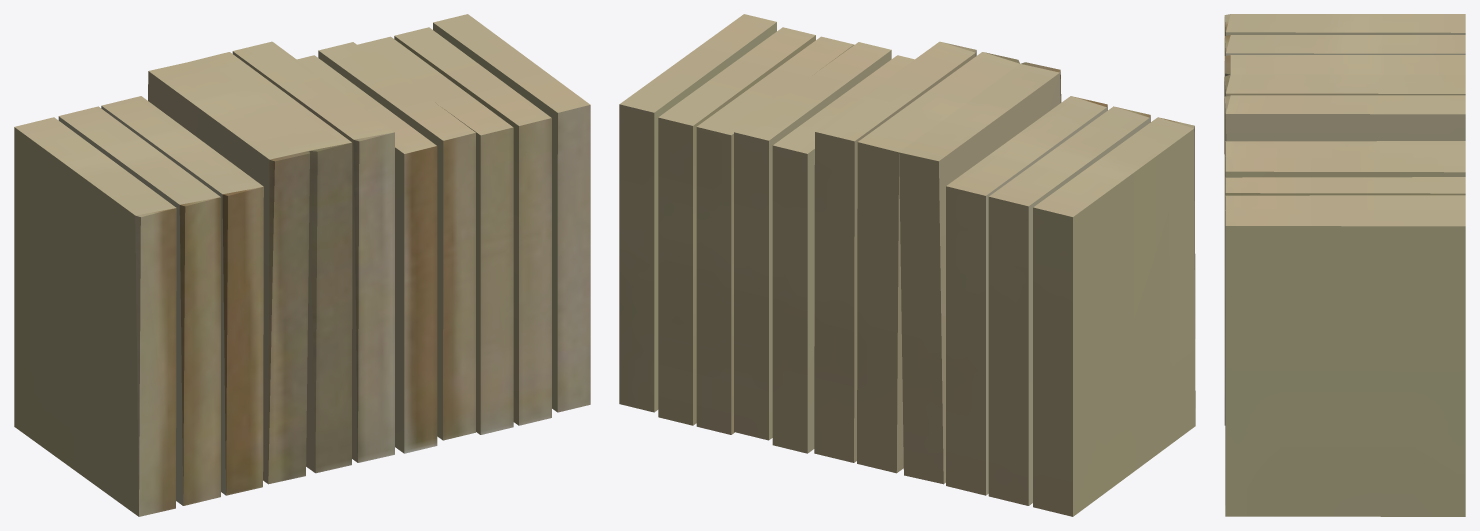
The model's file is book3_v2.dae.
The picture shows the model from 3 angles, left to right: view 1: azimuth 30°, elevation 25°; view 2: azimuth 150°, elevation 25°; view 3: azimuth 270°, elevation 25°; orthographic projection. The views are drawn at different scales.
Visible parts, largest first — view 1: node; view 2: node; view 3: node.
Boxes of the visible parts, left/top/right/bottom form: node: left=14, top=14, right=590, bottom=516; node: left=619, top=14, right=1195, bottom=516; node: left=1224, top=14, right=1465, bottom=516.
Bounding box in the file's own units: 0.2534 × 0.1732 × 0.1203.
1 material, 1 textured.
